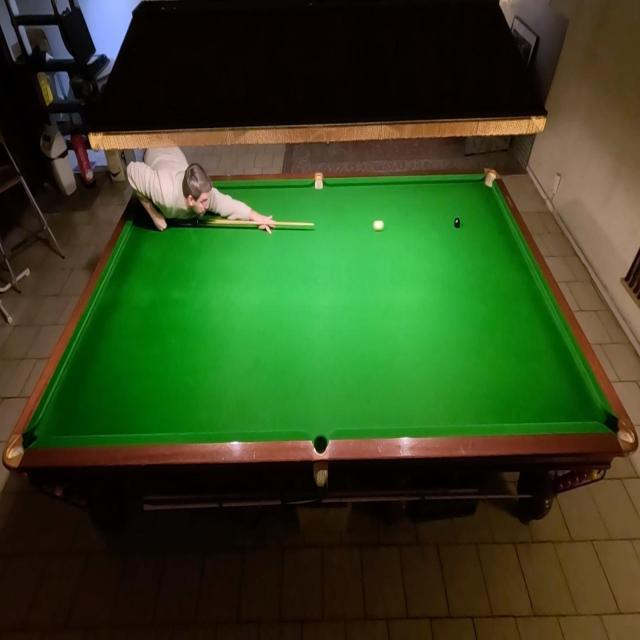Ball: (372, 218, 386, 233), (453, 216, 461, 230)
Pocket: (6, 427, 38, 469), (603, 414, 636, 452), (312, 434, 329, 456), (482, 171, 498, 190), (313, 173, 325, 190)
